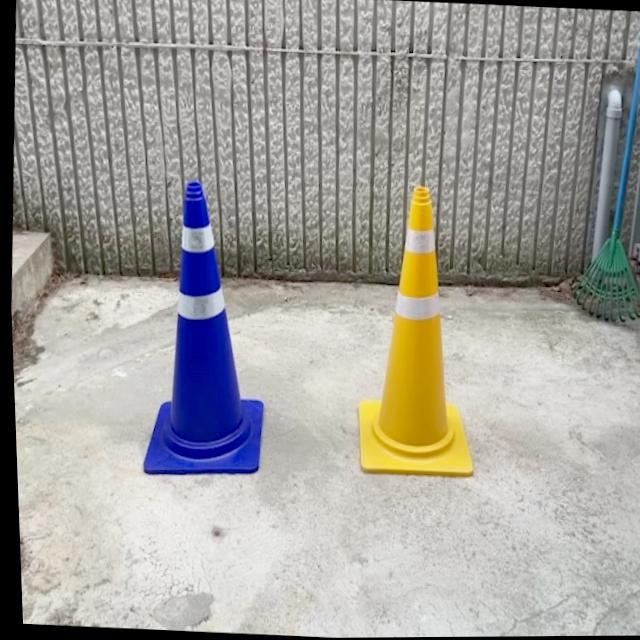b_rub: (140, 181, 260, 475)
y_rub: (356, 186, 470, 475)
